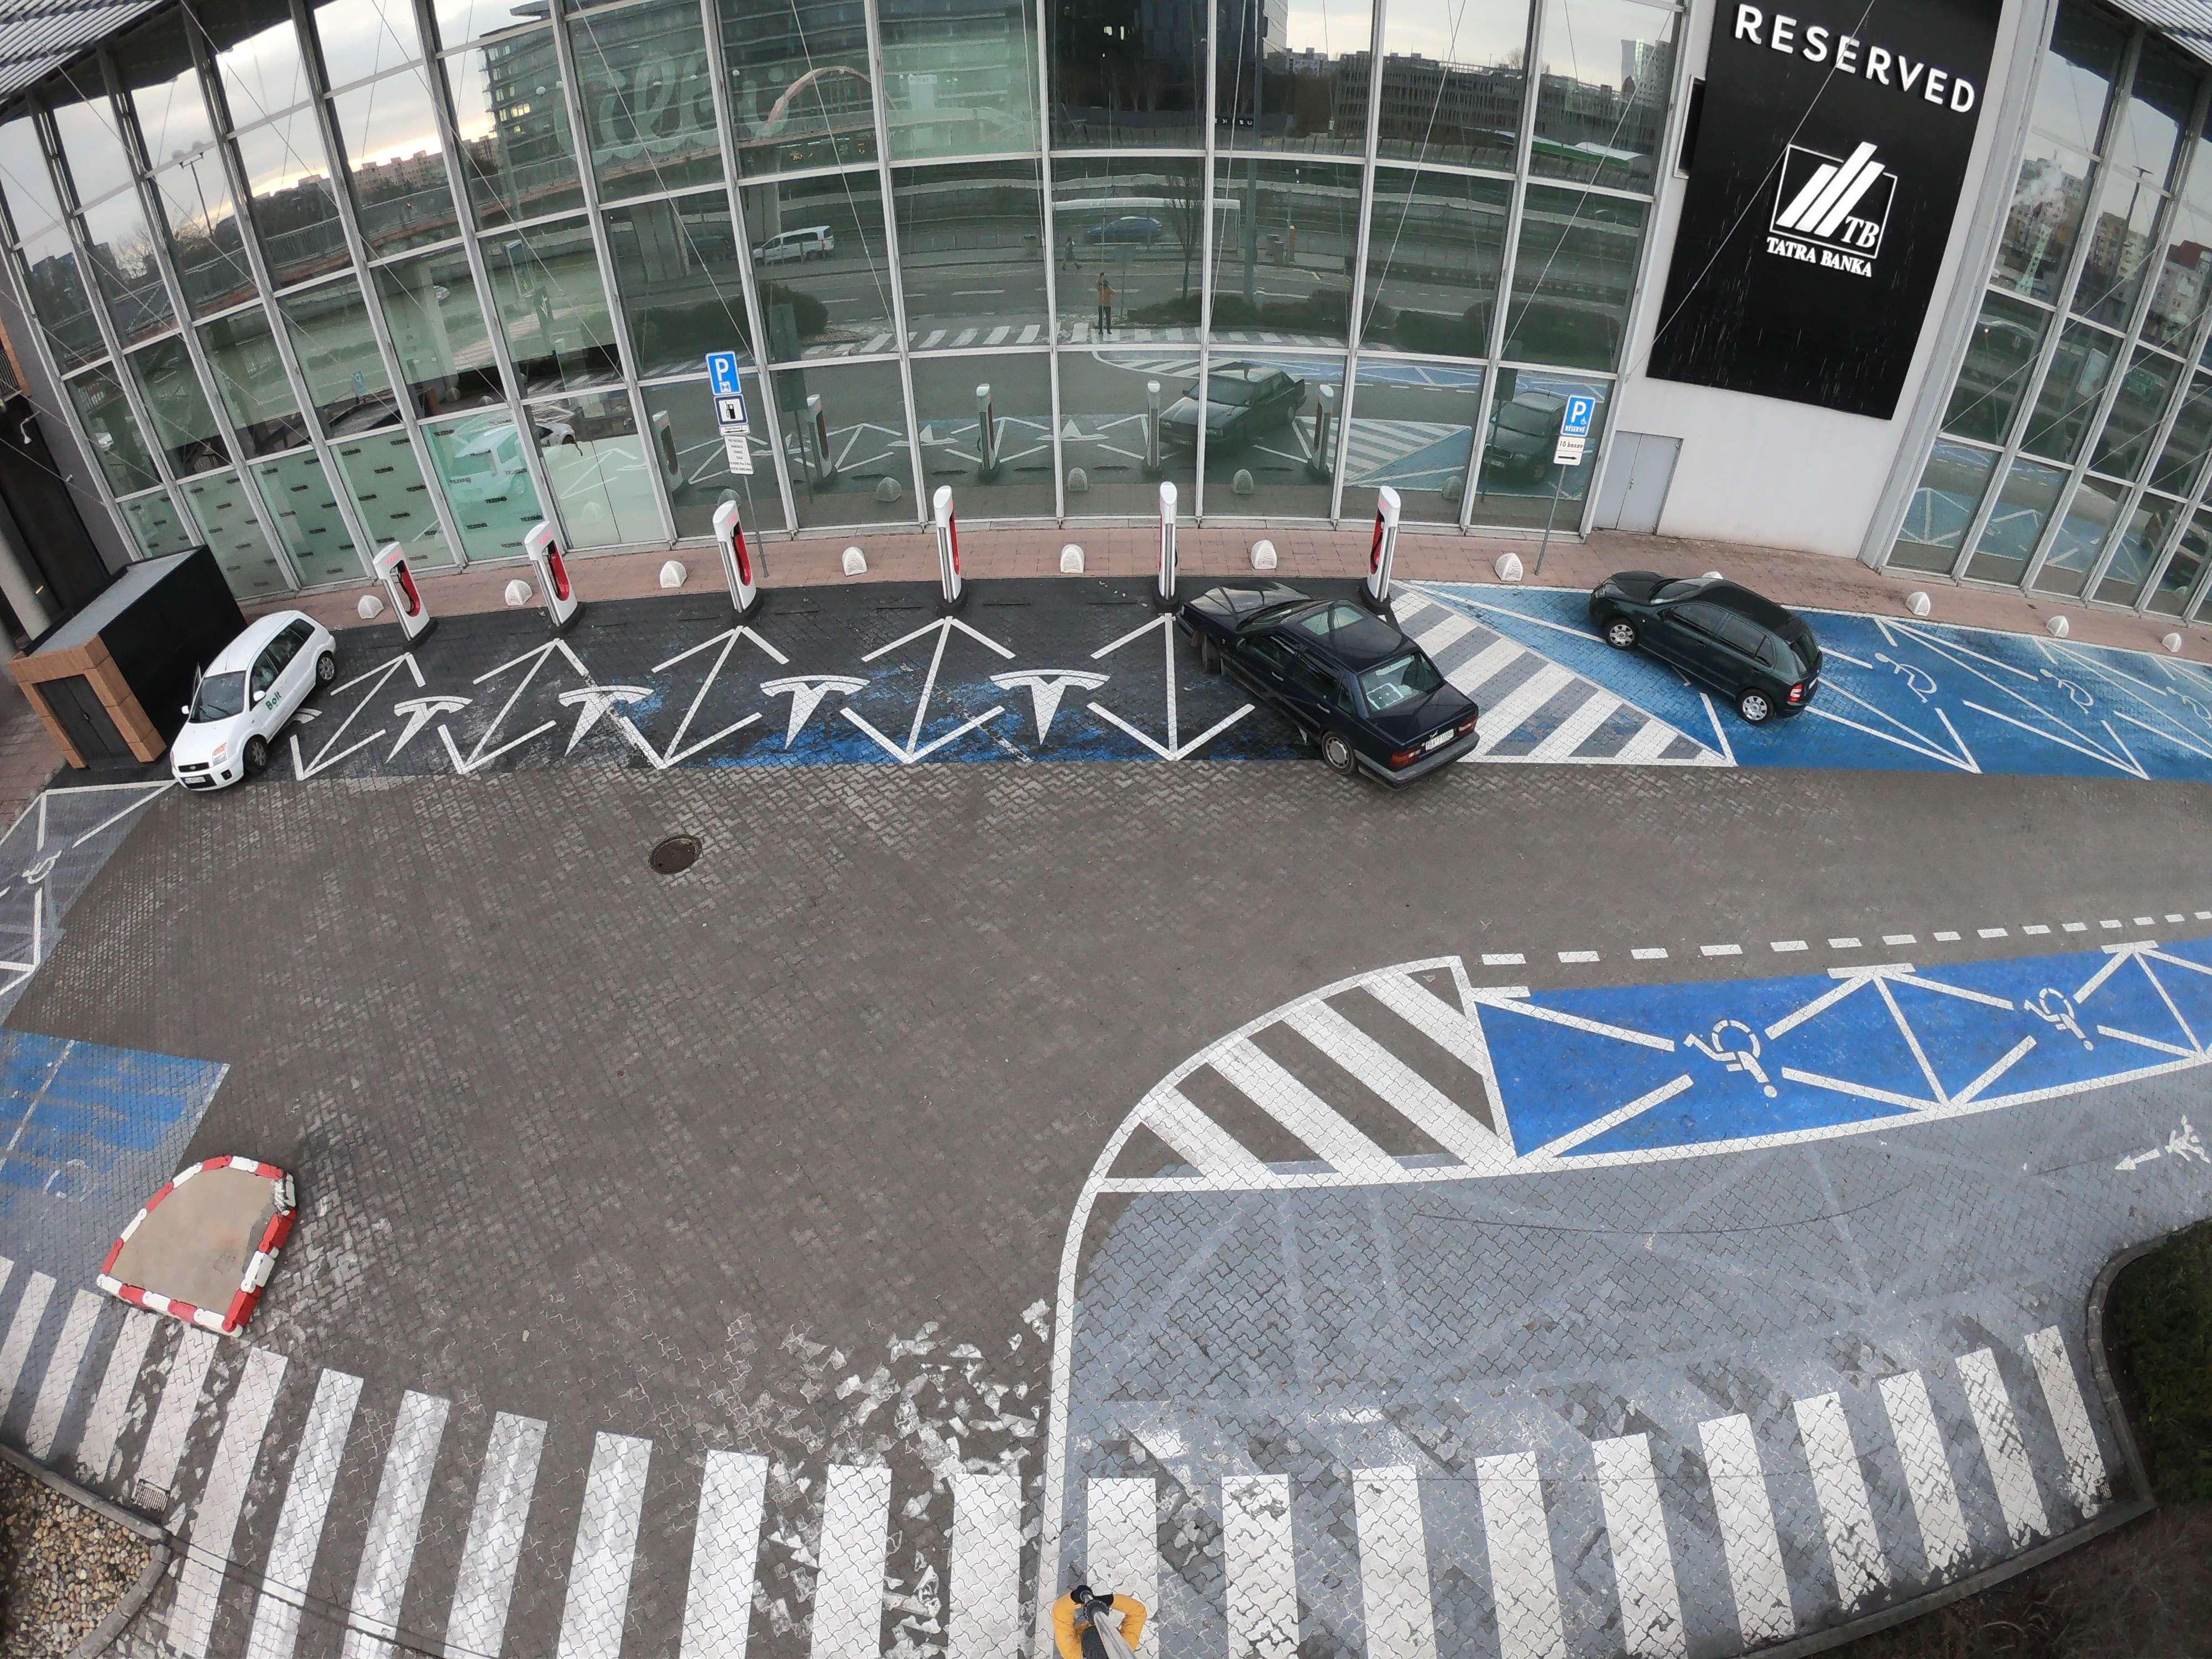empty: (1200, 579, 1507, 791), (158, 608, 343, 791), (1599, 568, 1827, 714)
occupied: (1228, 35, 1355, 138), (1061, 24, 1181, 118), (904, 31, 1029, 120)
